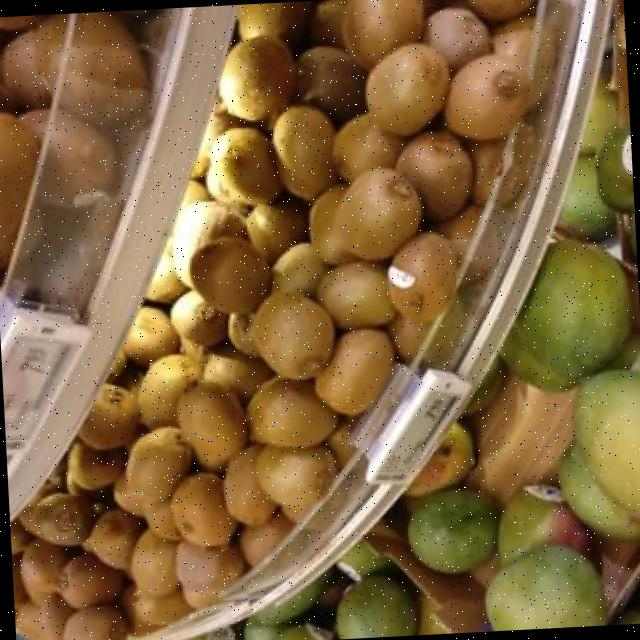kiwi: (62, 11, 147, 122), (336, 167, 421, 259), (366, 44, 448, 135), (252, 290, 335, 378), (43, 109, 117, 204), (446, 53, 528, 138), (396, 131, 473, 219), (315, 330, 395, 414), (173, 201, 246, 287), (219, 38, 295, 120), (387, 231, 457, 320), (177, 381, 247, 470), (273, 104, 338, 199), (190, 236, 271, 312), (248, 379, 338, 447), (0, 112, 39, 264), (258, 444, 338, 515), (343, 0, 425, 67), (211, 127, 282, 201), (318, 261, 395, 328), (334, 112, 406, 181), (298, 47, 365, 120), (127, 426, 192, 500), (137, 354, 201, 427), (173, 472, 237, 544), (223, 443, 277, 525), (191, 104, 252, 176), (79, 382, 140, 447), (424, 7, 491, 66), (0, 30, 51, 106), (21, 493, 96, 544), (309, 182, 356, 263), (206, 348, 274, 403), (84, 508, 145, 568), (246, 203, 307, 260), (57, 554, 123, 606), (177, 541, 247, 589), (20, 537, 71, 602), (130, 529, 179, 594), (122, 309, 179, 364), (238, 1, 313, 42), (171, 291, 227, 345), (272, 243, 328, 295), (15, 593, 74, 640), (242, 511, 293, 564), (69, 440, 126, 487), (146, 238, 187, 301), (428, 296, 467, 362), (62, 604, 128, 640), (32, 13, 65, 83), (467, 139, 503, 203), (435, 204, 482, 252), (387, 313, 432, 362), (134, 588, 191, 624), (114, 473, 157, 516), (492, 16, 533, 57), (207, 163, 243, 204), (326, 416, 356, 465), (309, 0, 342, 44), (228, 311, 261, 355), (145, 498, 181, 538), (470, 0, 531, 19), (18, 110, 48, 136), (183, 585, 220, 606), (10, 520, 33, 553)
